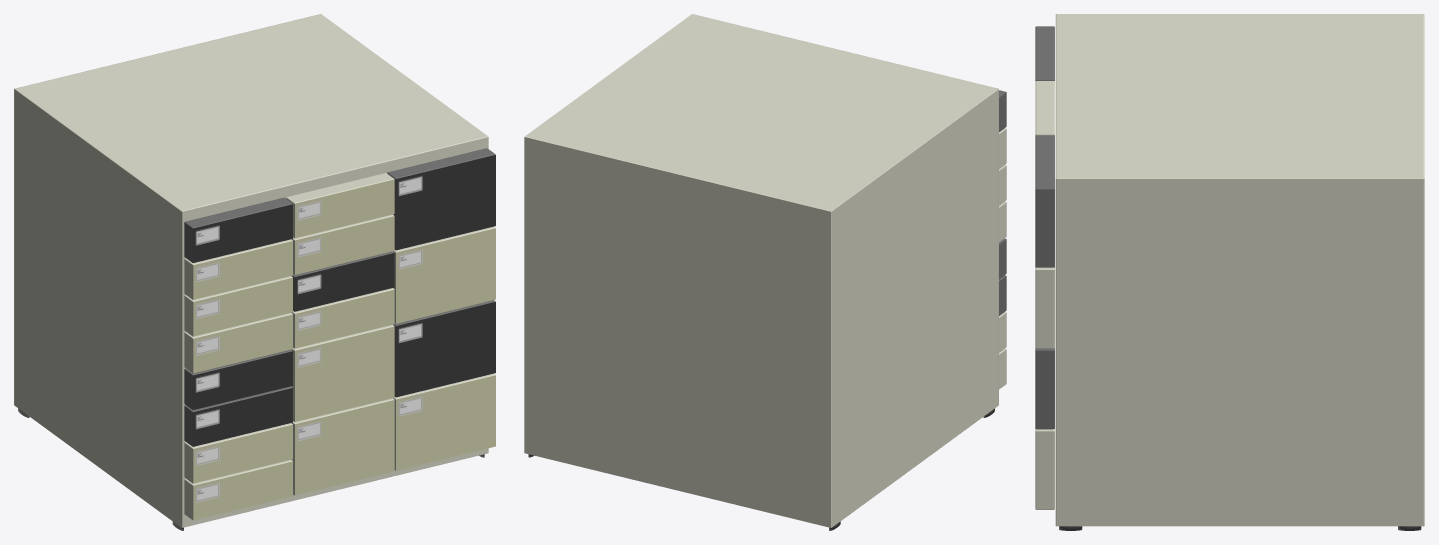
Rendered from sh-scopia-office-box.glb.
3 renders of one model, left to right at view 1: azimuth 30°, elevation 25°; view 2: azimuth 150°, elevation 25°; view 3: azimuth 270°, elevation 25°, orthographic. The views are drawn at different scales.
Parts seen in each view (by area): view 1: oficina_armario_Cube.161; view 2: oficina_armario_Cube.161; view 3: oficina_armario_Cube.161.
Boxes of the visible parts, x1,y1,x2,y2 form: oficina_armario_Cube.161: [14, 14, 495, 530]; oficina_armario_Cube.161: [524, 14, 1006, 530]; oficina_armario_Cube.161: [1035, 14, 1424, 530].
Bounding box in the file's own units: 1 × 1 × 1.
Materials: 7 (4 with a texture image).
